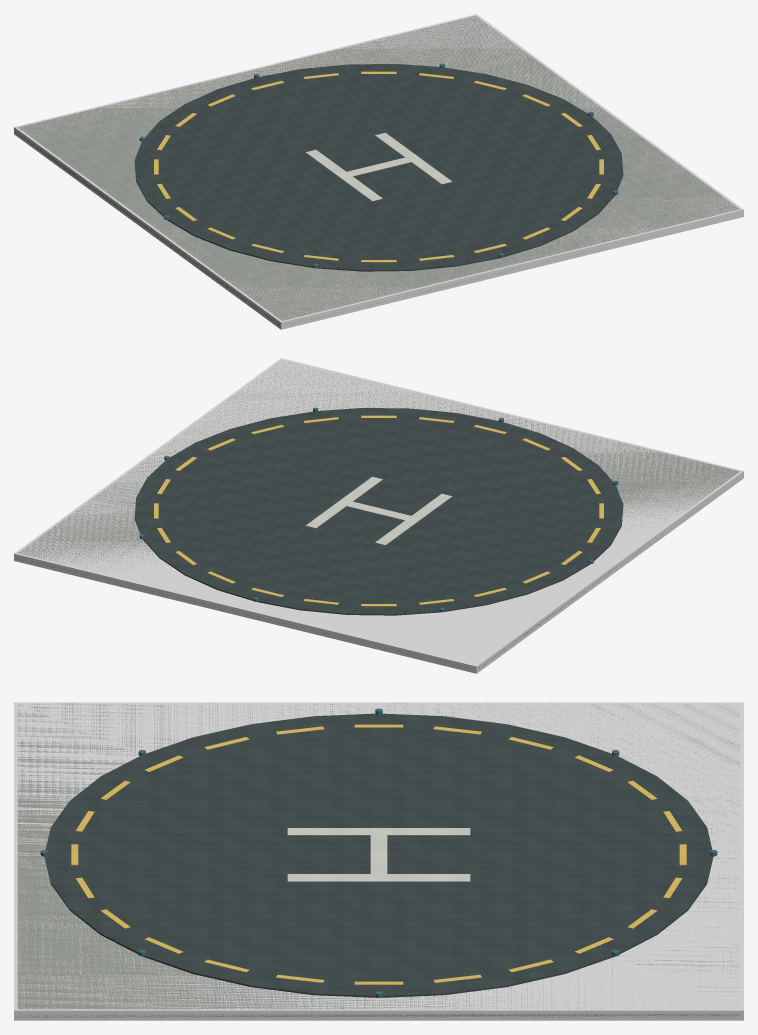
The model's file is Helipad.fbx.
3 views of the same model, one above another, from view 1: azimuth 30°, elevation 25°; view 2: azimuth 150°, elevation 25°; view 3: azimuth 270°, elevation 25° (orthographic). The views are drawn at different scales.
Visible parts, largest first — view 1: LOD0, COL_Static; view 2: LOD0, COL_Static; view 3: LOD0, COL_Static.
Boxes of the visible parts, box(x1,y1,x2,y2) form: LOD0: box(15, 15, 739, 325); COL_Static: box(14, 14, 743, 329); LOD0: box(17, 360, 739, 669); COL_Static: box(14, 358, 743, 673); LOD0: box(17, 703, 740, 1017); COL_Static: box(14, 702, 743, 1020).
Size of what is drawn, in the model's own units: 2400 by 54.5 by 2400.
